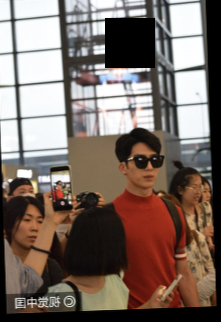without_mask: (126, 151, 160, 190), (11, 212, 44, 249), (183, 181, 203, 204), (200, 186, 212, 207)
